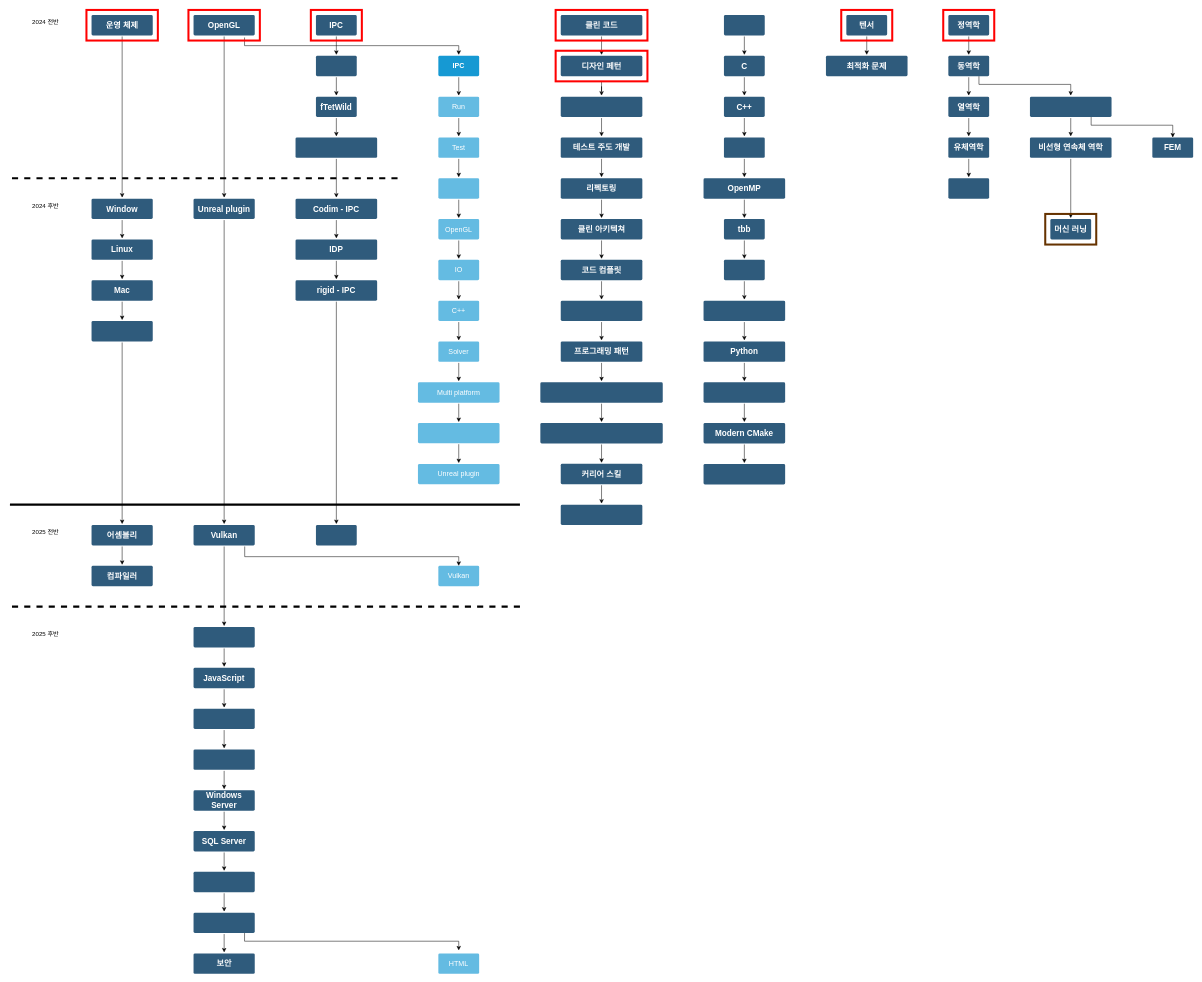
Some shapes in this 1202 by 982 pixel diagram are drawn without their labels. The shapes that lost their labels are listed below. From the top down, each one's box as (x1, y1, x2, y2) in pixels, then its label:
(724, 15, 764, 35): 영어
(316, 56, 356, 76): TetWild
(560, 96, 642, 117): 코딩 컨벤션
(1030, 96, 1111, 117): 연속체 역학
(295, 137, 377, 158): Deformation Transfer
(724, 137, 764, 158): C#
(438, 178, 479, 198): CMake
(948, 178, 989, 198): CFD
(724, 260, 764, 280): CUDA
(560, 300, 642, 321): 클린 코더
(703, 300, 785, 321): 자료 구조
(91, 321, 152, 341): Android
(540, 382, 662, 402): 프로그래머로 사는 법
(703, 382, 785, 402): Modern C++
(418, 423, 499, 443): Latex Beamer
(540, 423, 662, 443): 실용주의 프로그래머
(703, 464, 785, 484): Modern C#
(560, 504, 642, 525): 매니지먼트 3.0
(316, 525, 356, 545): MPM
(193, 627, 254, 647): HTML + CSS
(193, 708, 254, 729): React
(193, 749, 254, 770): Socket
(193, 872, 254, 892): Azure
(193, 912, 254, 933): AWS
